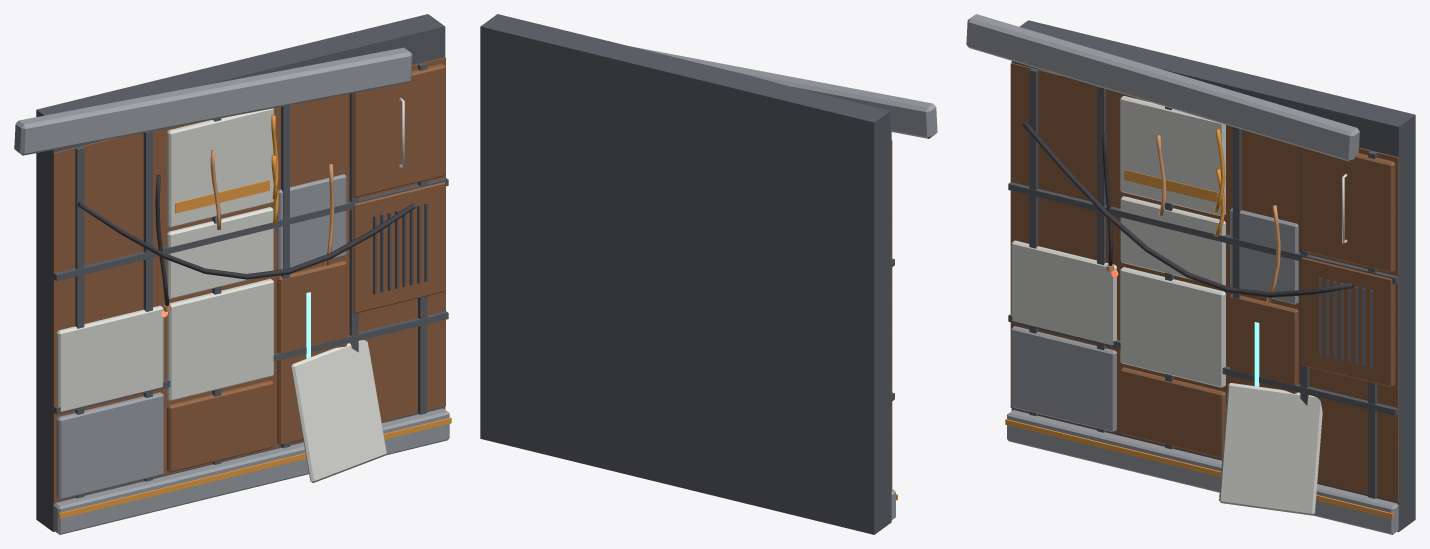
The model's file is wall_breach.glb.
3 renders of one model, left to right at view 1: azimuth 30°, elevation 25°; view 2: azimuth 150°, elevation 25°; view 3: azimuth 330°, elevation 25°, orthographic.
Parts seen in each view (by area): view 1: wall_breach; view 2: wall_breach; view 3: wall_breach.
Boxes of the visible parts, <box> form: wall_breach: <box>14,14,451,534</box>; wall_breach: <box>480,14,937,534</box>; wall_breach: <box>966,14,1415,534</box>.
Size of the model in its own units: 4.4 by 4.1 by 0.7385.
